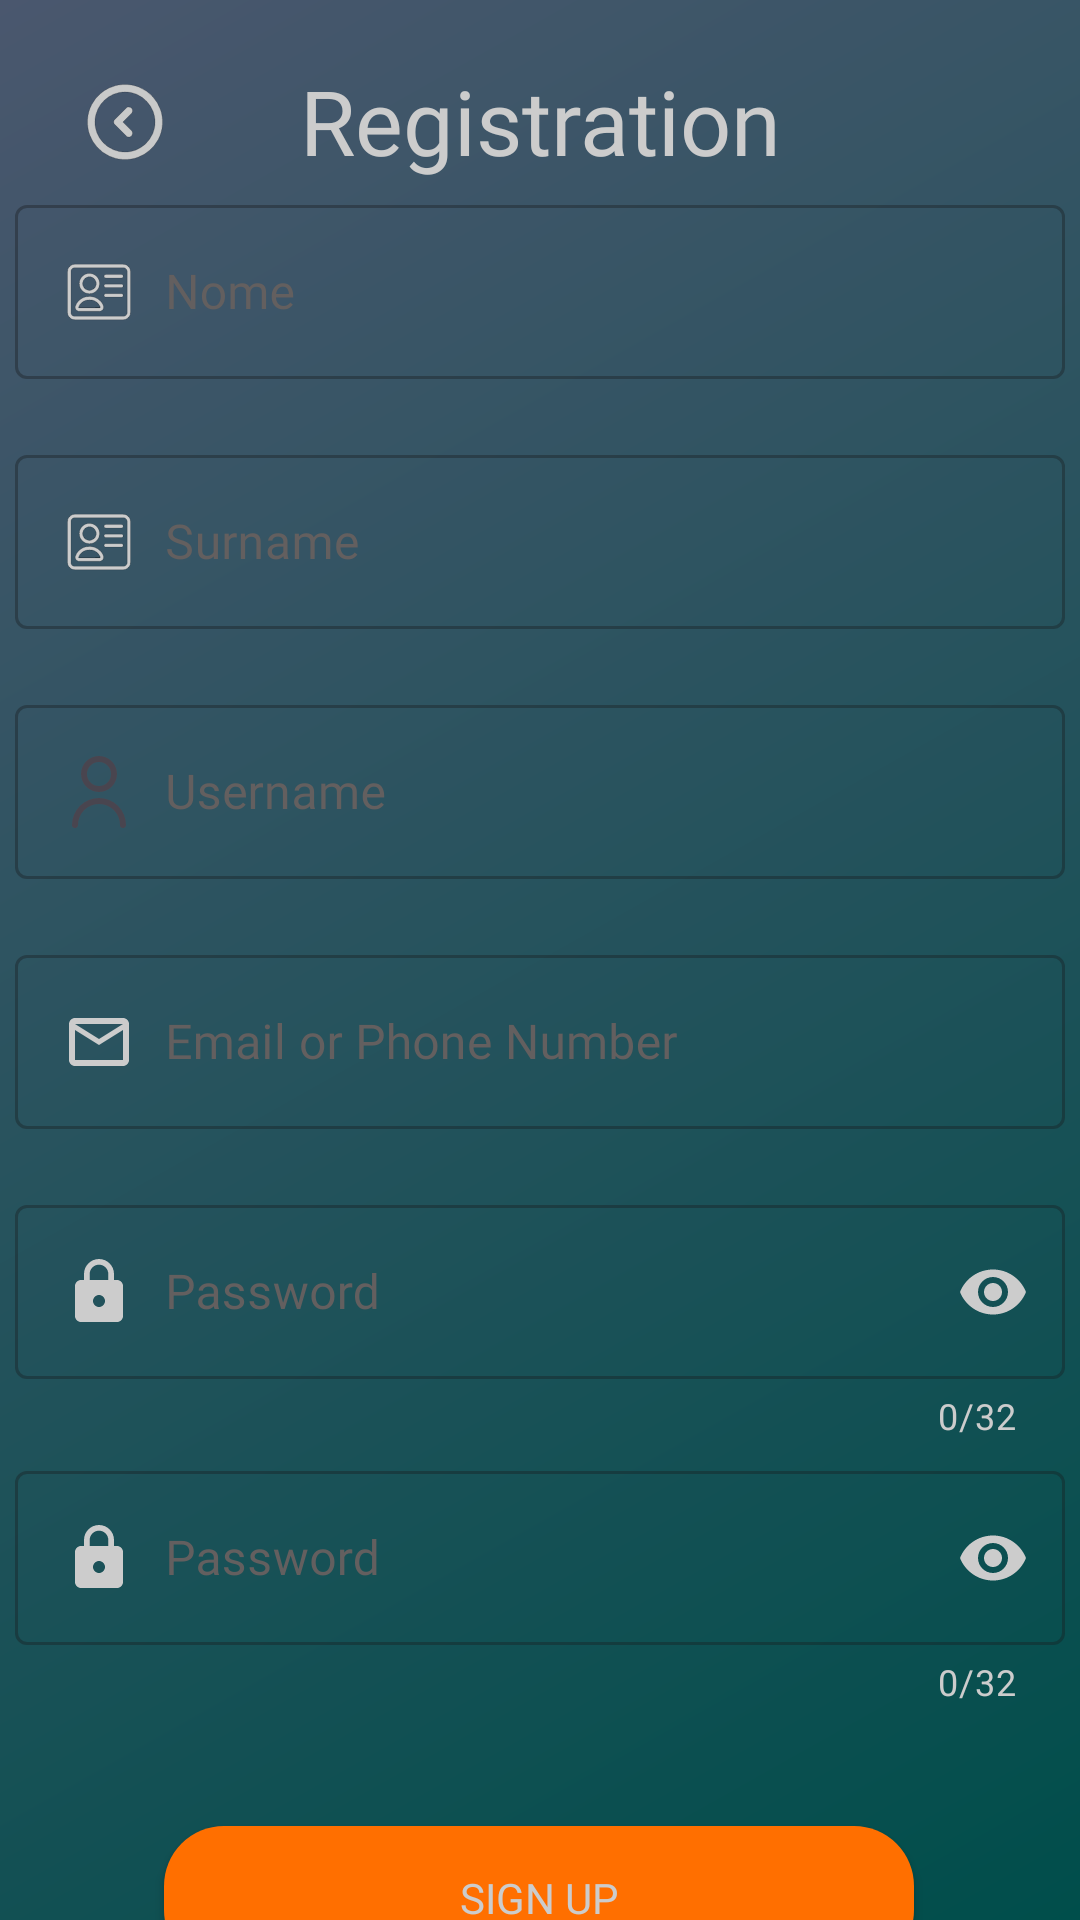

Icon bounding boxes for this 1080px×1920px phone screenshot, format (left=x1, top=y1, right=x2, bottom=y2):
arrow left: (left=87, top=84, right=163, bottom=160)
